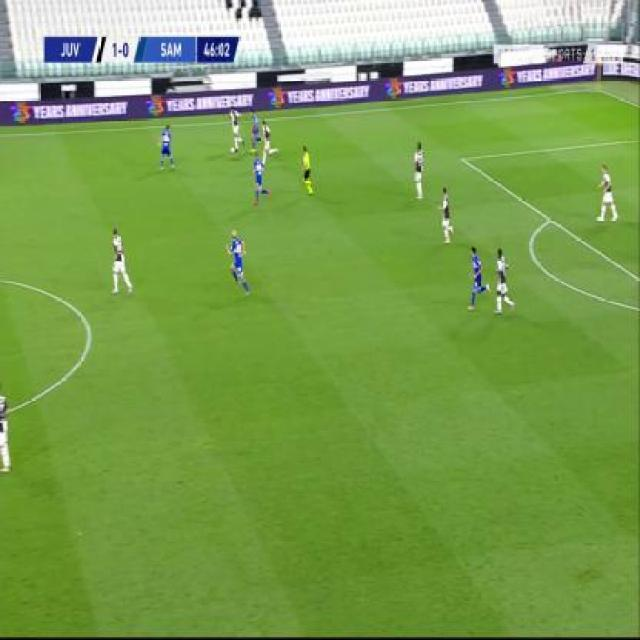ball: (230, 146, 236, 155)
player: (224, 231, 252, 299), (109, 227, 134, 301), (490, 247, 515, 321), (464, 247, 490, 313), (595, 164, 620, 224), (0, 381, 14, 480), (250, 151, 270, 207), (259, 120, 281, 169), (438, 185, 455, 244), (158, 122, 177, 173), (298, 146, 314, 200), (414, 141, 427, 203), (229, 107, 245, 153), (250, 112, 263, 154)
